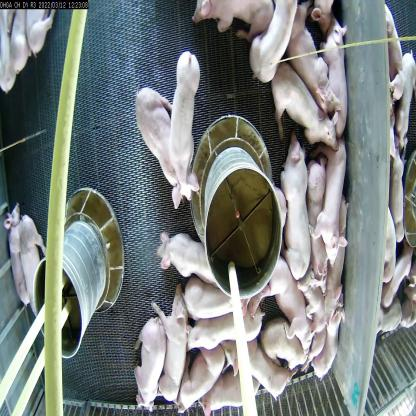Pig: (140, 81, 198, 224), (252, 250, 321, 352), (271, 62, 339, 149), (164, 47, 201, 198), (280, 141, 314, 288), (164, 229, 219, 316), (157, 296, 194, 414), (190, 307, 268, 361), (319, 136, 349, 266), (253, 1, 296, 89), (14, 213, 52, 310), (174, 350, 229, 415), (230, 332, 280, 402), (135, 313, 167, 415), (187, 277, 254, 324), (2, 198, 28, 312), (259, 329, 313, 368)
